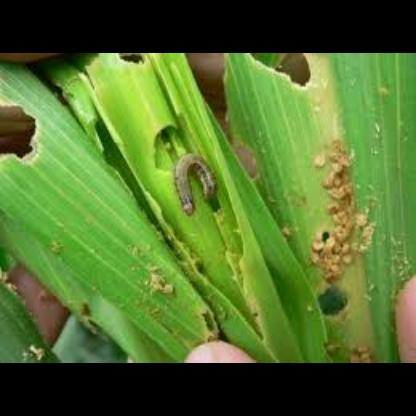agujero: (0, 103, 40, 162), (248, 54, 314, 88), (149, 119, 189, 175), (308, 288, 348, 318), (119, 54, 147, 70)
oruga: (171, 152, 215, 218)
